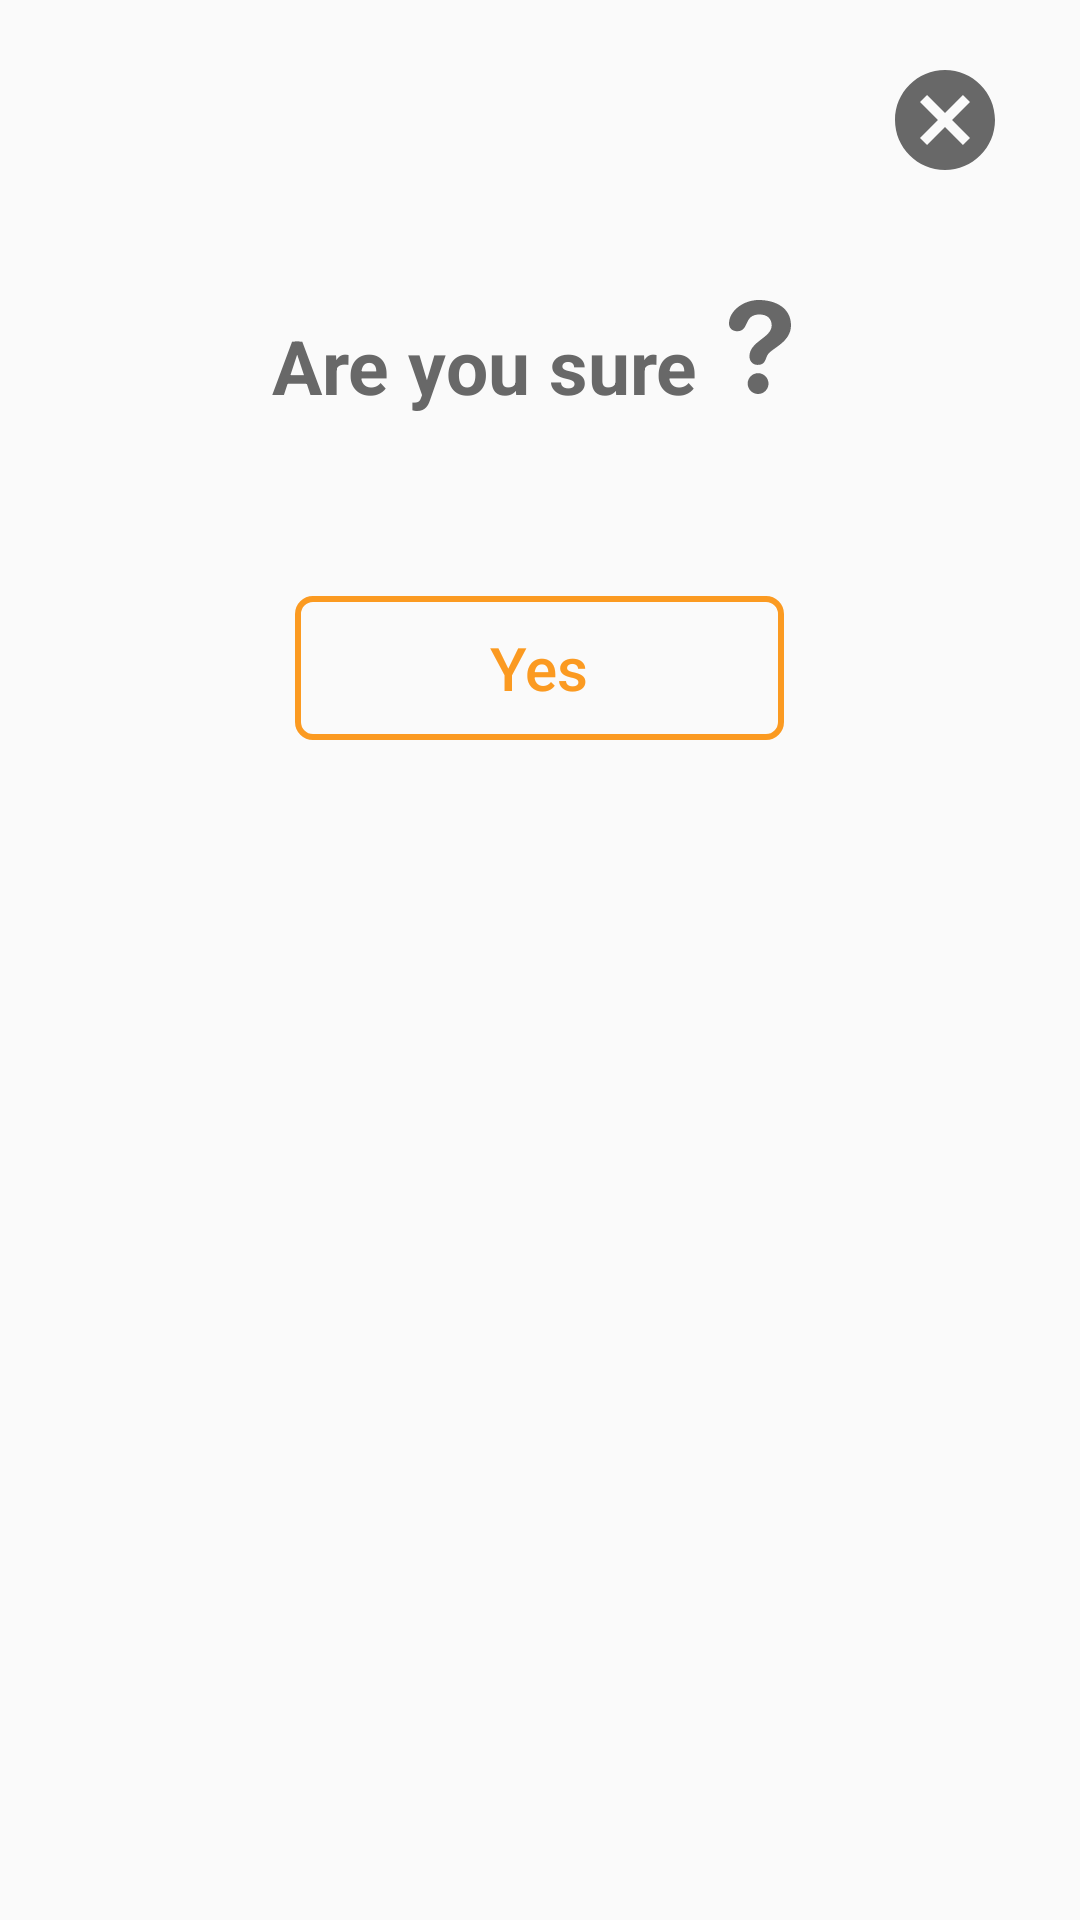

Locate icon controls on the screen. Image size 1080 x 1920, boxes as (left=x1, top=y1, right=x2, bottom=y2).
cancel: (left=895, top=70, right=995, bottom=170)
question mark: (left=729, top=300, right=791, bottom=394)
